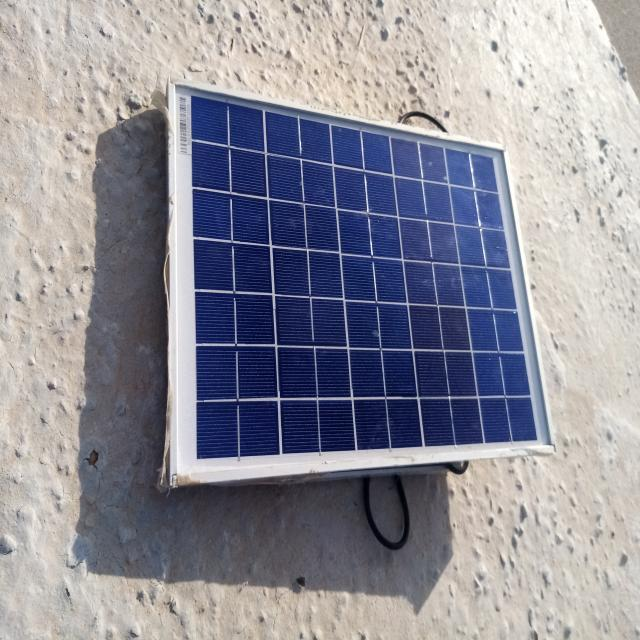Normal Solar Panel: (170, 79, 555, 483)
